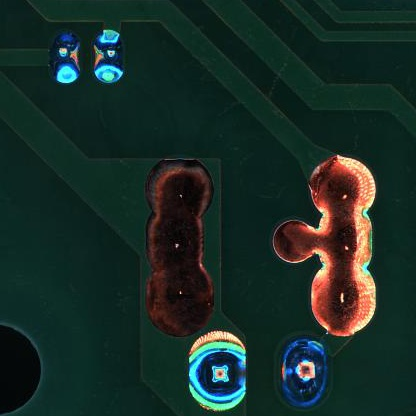spot: (186, 330, 250, 411), (278, 336, 329, 408), (91, 27, 128, 86), (46, 27, 82, 87)
